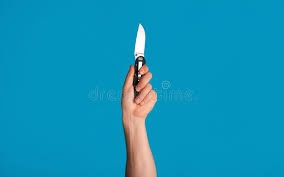knife: (131, 22, 148, 100)
